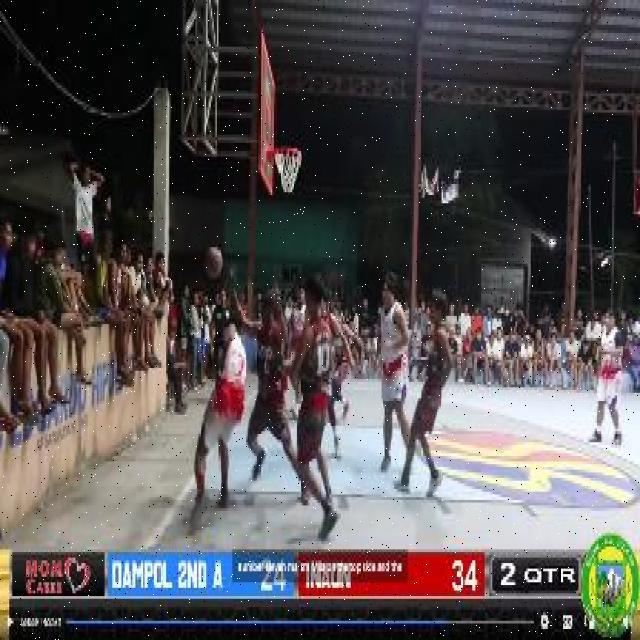ball: (203, 244, 224, 283)
